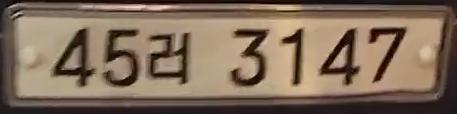1: (276, 25, 312, 88)
3: (227, 26, 271, 88)
4: (45, 23, 100, 91), (315, 24, 363, 89)
5: (100, 27, 143, 90)
7: (365, 25, 409, 86)
러: (142, 26, 197, 89)
